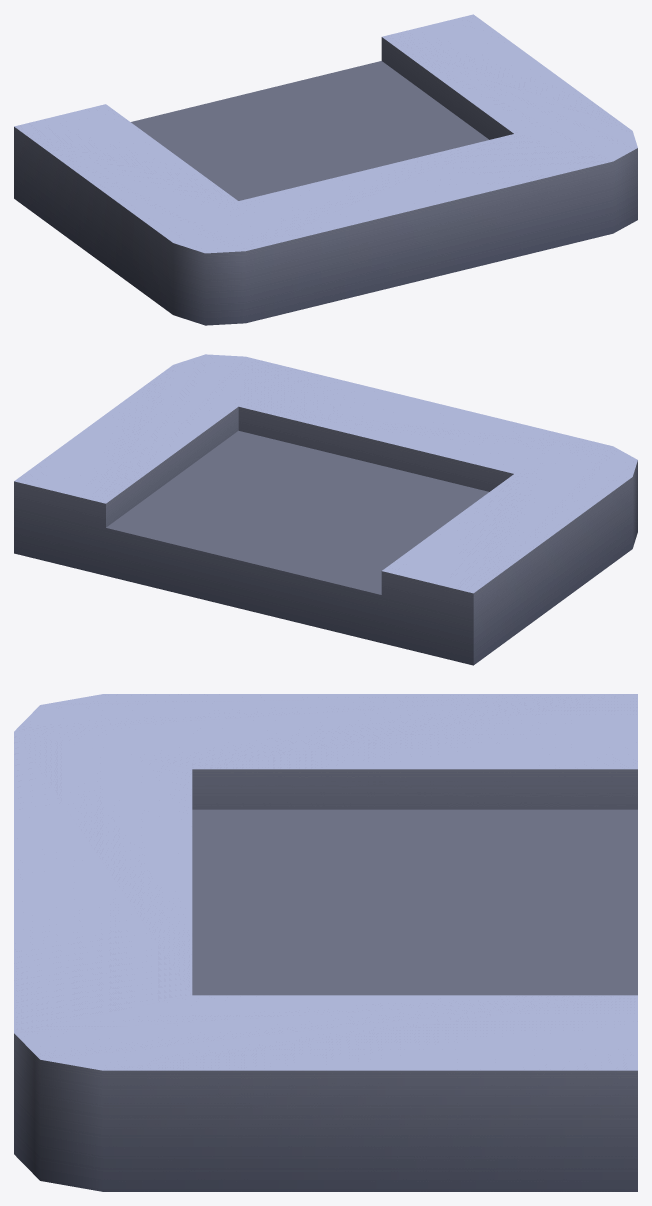
The model's file is balcony-floor.glb.
The picture shows the model from 3 angles, top to bottom: view 1: azimuth 30°, elevation 25°; view 2: azimuth 150°, elevation 25°; view 3: azimuth 270°, elevation 25°; orthographic projection. The views are drawn at different scales.
Visible parts, largest first — view 1: balcony-floor; view 2: balcony-floor; view 3: balcony-floor.
Part boxes in pixels (x1,y1,x2,y2): balcony-floor: [14, 14, 637, 325]; balcony-floor: [14, 354, 637, 665]; balcony-floor: [14, 694, 637, 1191].
Size of the model in its own units: 1 by 0.15 by 0.7.
1 material, 1 textured.
